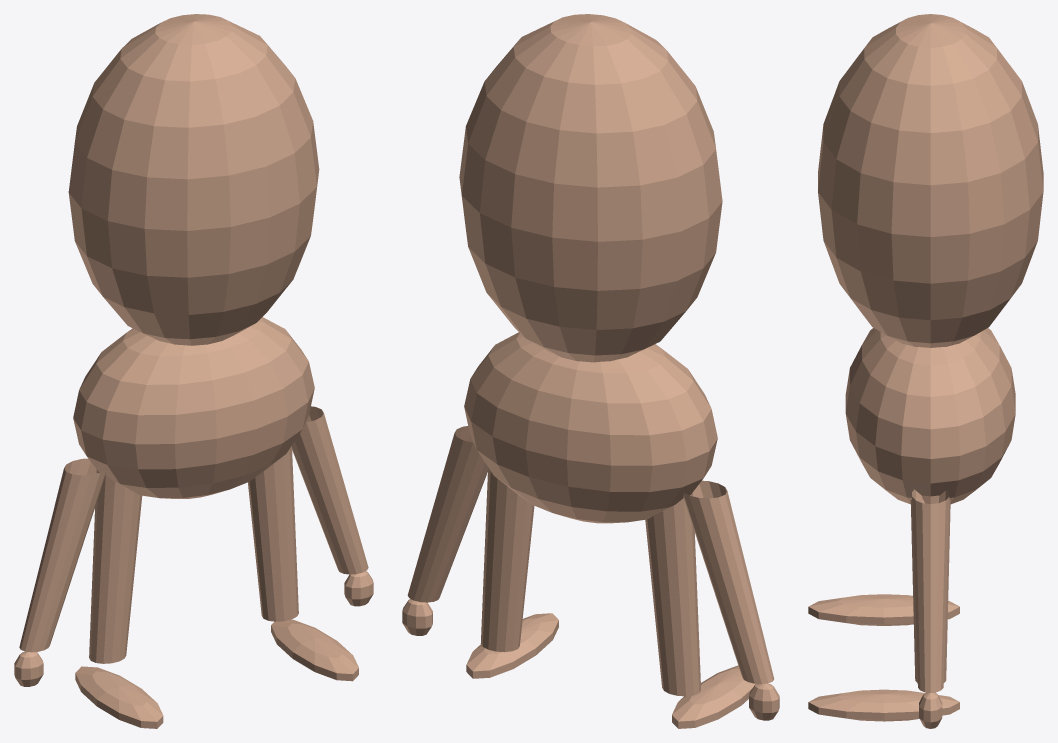
Rendered from anny-peds-patient.obj.
3 views of the same model, side by side, from view 1: azimuth 30°, elevation 25°; view 2: azimuth 150°, elevation 25°; view 3: azimuth 270°, elevation 25° (orthographic). The views are drawn at different scales.
Bounding box in the file's own units: 0.6211 × 1.07 × 0.354.
